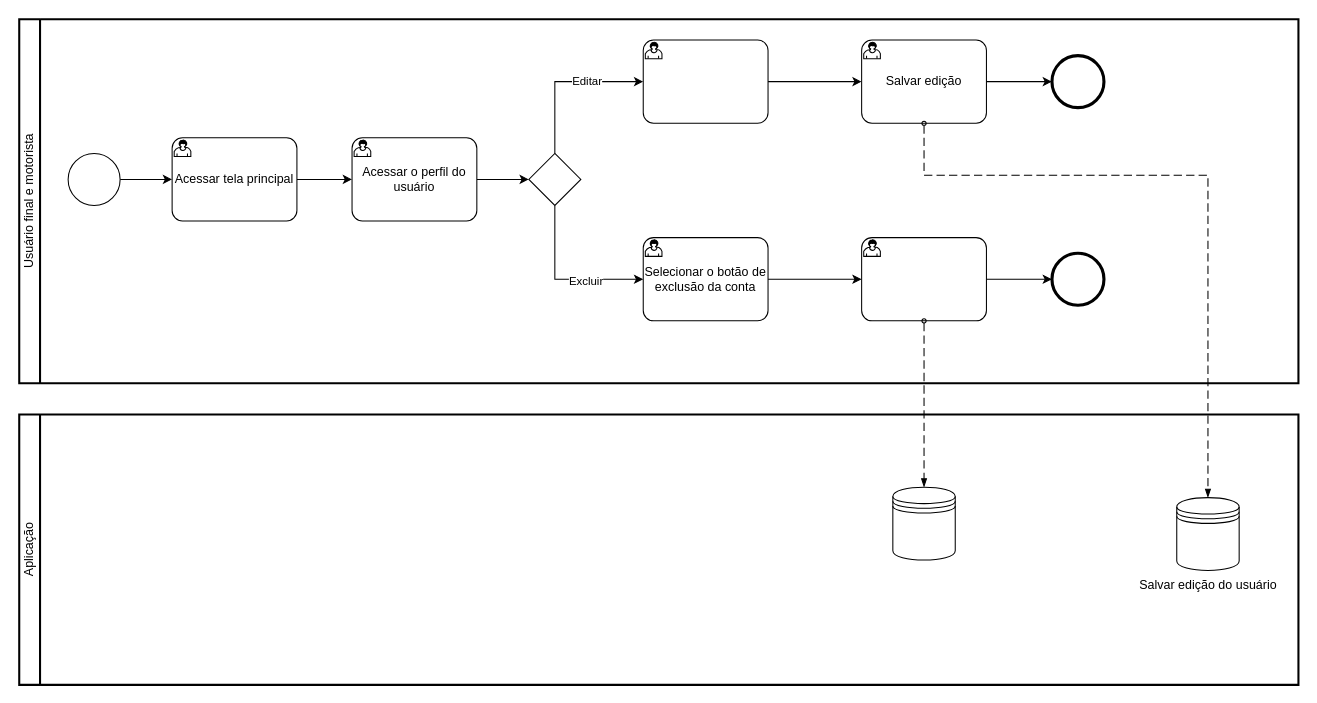
This 1317x703 diagram has some shape labels left out. The shapes that lost their labels are listed below. From the top down, each one's centre as x and y in pixels, then its label:
(x=705, y=81): Editar campo desejado
(x=923, y=279): Confirmar exclusão
(x=923, y=523): Salvar exclusão do usuário
